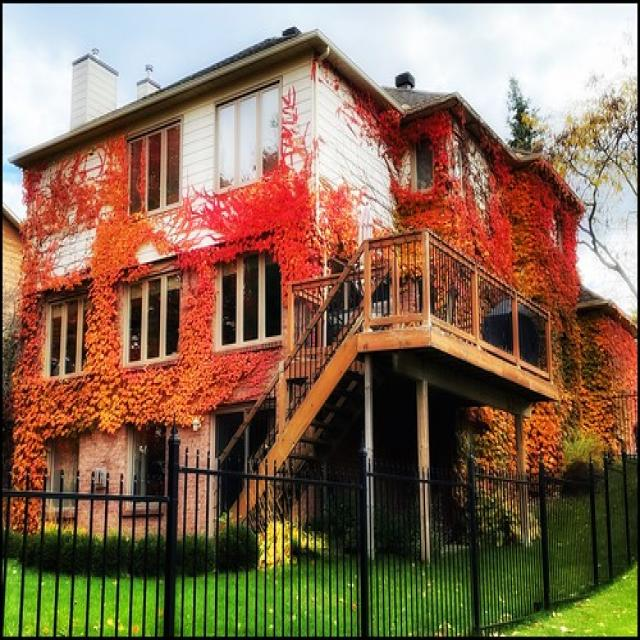Normal_building: (4, 25, 635, 608)
